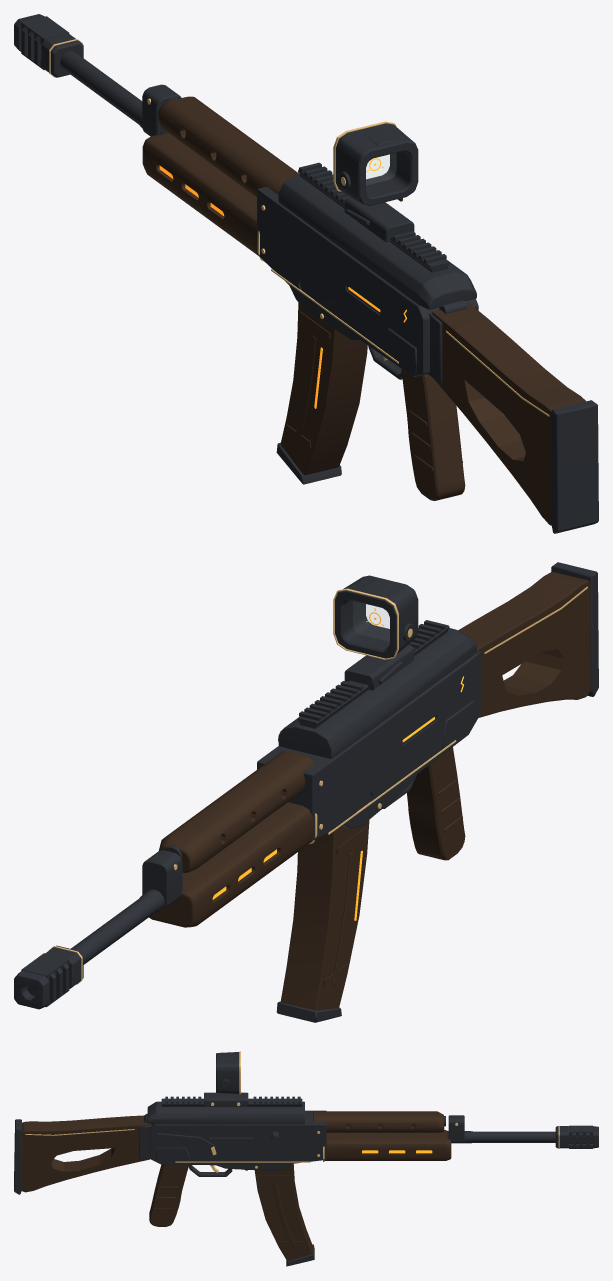
Rendered from weapon_ak47.glb.
3 renders of one model, top to bottom at view 1: azimuth 30°, elevation 25°; view 2: azimuth 150°, elevation 25°; view 3: azimuth 270°, elevation 25°, orthographic. The views are drawn at different scales.
Parts seen in each view (by area): view 1: ak47_metal, ak47_polymer, ak47_gold; view 2: ak47_polymer, ak47_metal, ak47_gold, ak47_glass, ak47_glow; view 3: ak47_polymer, ak47_metal, ak47_gold.
Boxes of the visible parts, <box> form: ak47_metal: <box>14,14,598,533</box>; ak47_polymer: <box>142,96,585,525</box>; ak47_gold: <box>49,39,549,416</box>; ak47_polymer: <box>149,572,590,1010</box>; ak47_metal: <box>14,562,598,1022</box>; ak47_gold: <box>49,586,587,984</box>; ak47_glass: <box>353,602,389,640</box>; ak47_glow: <box>212,608,463,920</box>; ak47_polymer: <box>22,1092,451,1261</box>; ak47_metal: <box>14,1052,598,1266</box>; ak47_gold: <box>25,1051,559,1172</box>.
Bounding box in the file's own units: 0.0962 × 0.4177 × 1.08.
